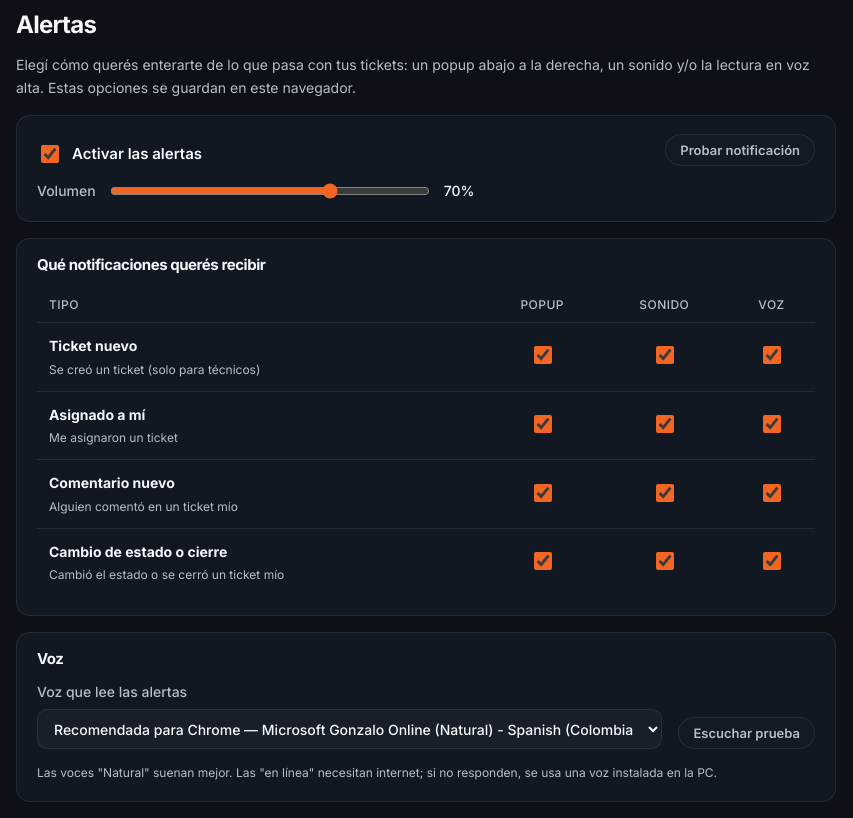
Test: Alertas › apagar las alertas deshabilita las opciones de los tipos
Click the checkbox labelled "Activar las alertas".
click(50, 154)  # box [41,145,59,163]
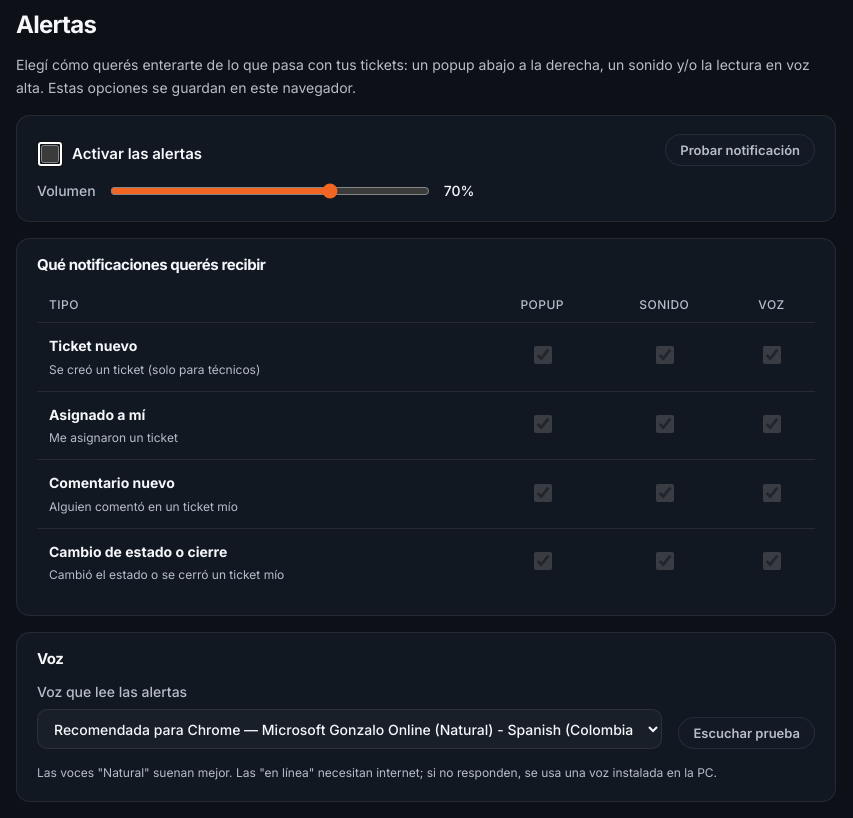
expect the checkbox named "popup para Asignado a mí" is disabled: met, box [534,415,552,433]
